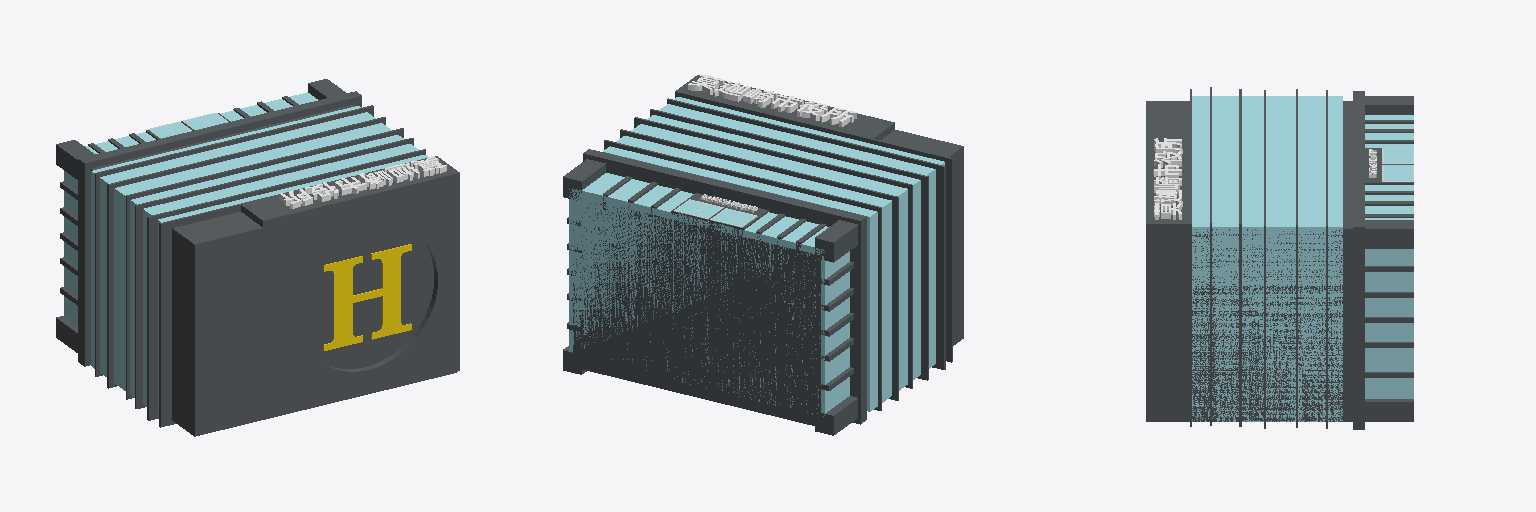
File: tinker.obj
The picture shows the model from 3 angles: view 1: azimuth 30°, elevation 25°; view 2: azimuth 150°, elevation 25°; view 3: azimuth 270°, elevation 25°; orthographic projection.
Parts seen in each view (by area): view 1: obj_36, obj_35, obj_1, obj_37, obj_32, obj_31, obj_33, obj_30, obj_34, obj_28, obj_0, obj_29 (+2 smaller); view 2: obj_2, obj_35, obj_0, obj_1, obj_36, obj_32, obj_33, obj_30, obj_31, obj_34, obj_29, obj_28 (+5 smaller); view 3: obj_35, obj_36, obj_0, obj_1, obj_34, obj_3, obj_9, obj_33, obj_15, obj_28, obj_29, obj_30 (+3 smaller).
Part boxes in pixels (x1,y1,x2,y2): obj_36: (91,105,459,436); obj_35: (91,106,428,414); obj_1: (78,91,361,366); obj_37: (323,244,411,350); obj_32: (147,149,425,420); obj_31: (159,156,437,427); obj_33: (135,138,413,408); obj_30: (107,117,385,388); obj_34: (279,156,446,208); obj_28: (95,105,373,376); obj_0: (64,92,317,324); obj_29: (126,128,403,399); obj_2: (573,203,820,427); obj_35: (603,97,944,411); obj_0: (569,173,849,416); obj_1: (583,149,866,424); obj_36: (676,75,963,345); obj_32: (667,98,945,369); obj_33: (650,109,928,380); obj_30: (620,129,898,400); obj_31: (675,91,952,362); obj_34: (688,74,856,126); obj_29: (634,117,912,388); obj_28: (604,140,881,410); obj_35: (1192,96,1342,421); obj_36: (1146,101,1352,421); obj_0: (1365,115,1413,398); obj_1: (1353,91,1364,429); obj_34: (1153,138,1182,219); obj_3: (1365,220,1413,248); obj_9: (1365,399,1413,421); obj_33: (1239,89,1241,426); obj_15: (1365,96,1413,114); obj_28: (1326,90,1327,428); obj_29: (1264,90,1265,428); obj_30: (1296,89,1297,427).
Bounding box in the file's own units: 134 × 93.48 × 109.